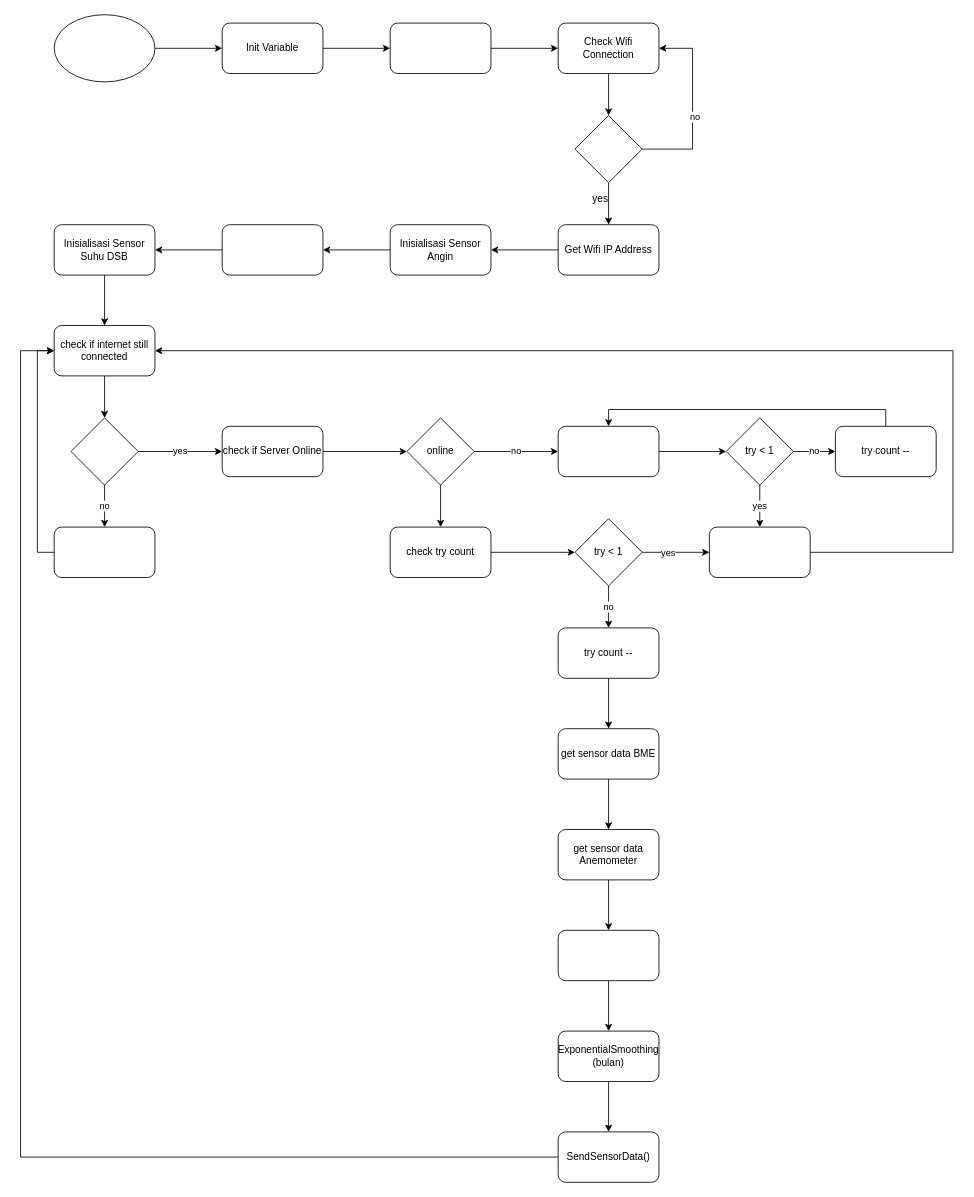
The diagram is 974 pixels wide and 1197 high, and some of its shapes have lost their labels. Here are the shapes that lost their labels. From the top down, the centre of each, then its label:
the point at 104,48: Program Start
the point at 440,48: Serial Begin (Aktifkan serial)
the point at 608,149: Conected
the point at 272,249: Inisialisasi Sensor BME
the point at 104,451: connected
the point at 608,451: check try wait conection
the point at 104,552: try connect to wifi
the point at 759,552: ping server
the point at 608,955: get sensor data DSB18b22
